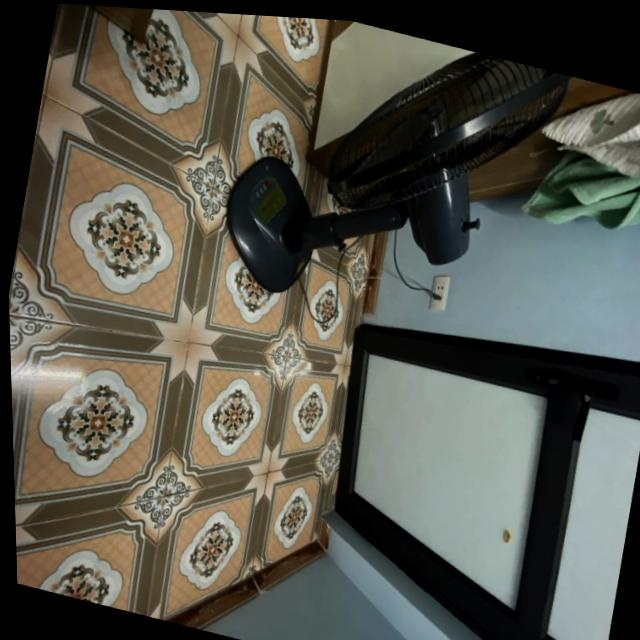outlet: (427, 272, 451, 313)
